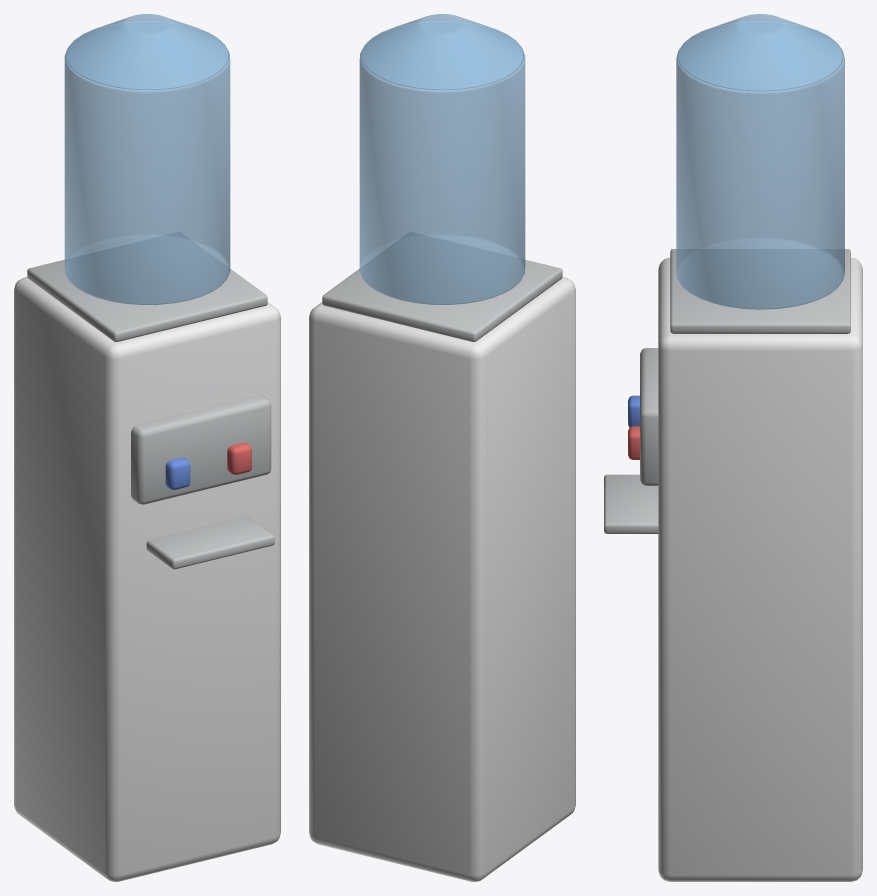
Rendered from water_cooler.glb.
3 views of the same model, side by side, from view 1: azimuth 30°, elevation 25°; view 2: azimuth 150°, elevation 25°; view 3: azimuth 270°, elevation 25° (orthographic).
Parts seen in each view (by area): view 1: Cube, Cone, Cube.001, Cube.003; view 2: Cube, Cone, Cube.001; view 3: Cube, Cone, Cube.001, Cube.003.
Part boxes in pixels (x1,y1,x2,y2): Cube: [14, 277, 280, 881]; Cone: [64, 14, 230, 304]; Cube.001: [27, 232, 274, 569]; Cube.003: [165, 442, 251, 489]; Cube: [309, 277, 575, 881]; Cone: [359, 14, 525, 304]; Cube.001: [322, 232, 562, 341]; Cube: [658, 257, 862, 881]; Cone: [676, 14, 844, 309]; Cube.001: [604, 249, 850, 533]; Cube.003: [628, 395, 639, 459].
Size of the model in its own units: 0.34 by 1.5 by 0.43.
Materials: 4 (4 with a texture image).
